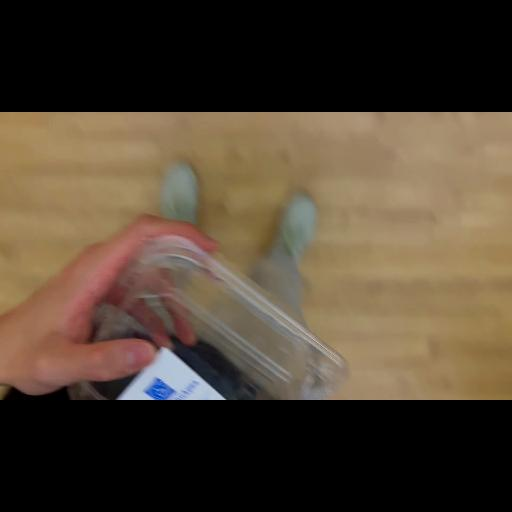small_plastic_container: (47, 230, 351, 400)
